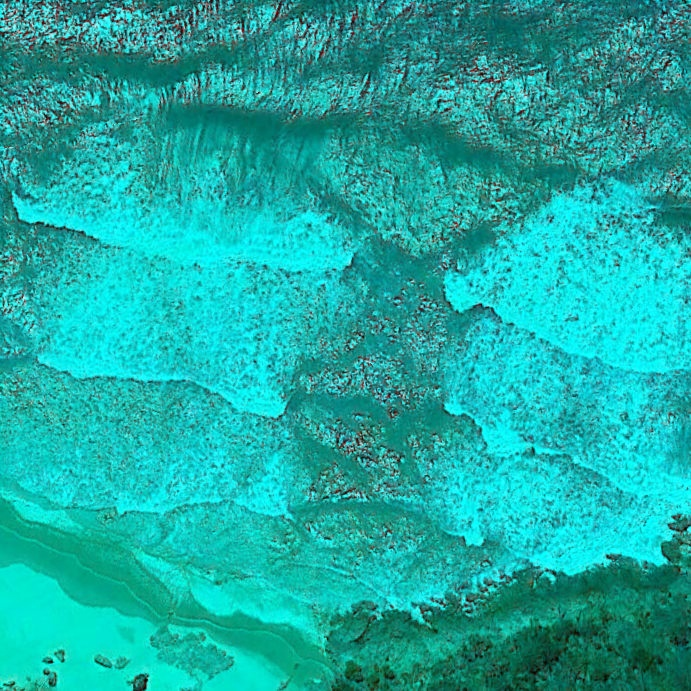rip_current: (247, 96, 524, 579)
